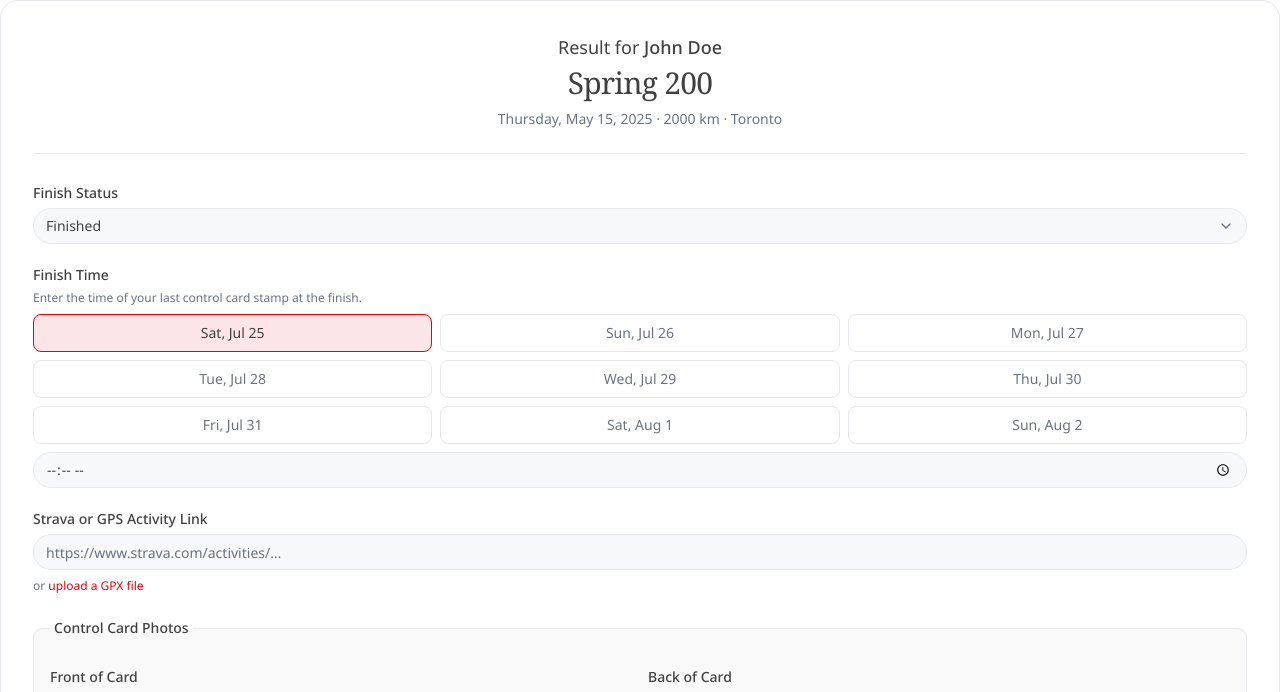
ResultSubmissionForm › pre-ride anchored results › anchors the day picker and elapsed time to the approved pre-ride start, not the event date
Expected: the radio button labelled "Sat, Jul 25" is shown, top-left (33, 314), bottom-right (432, 352)
Expected: the radio button labelled "Sun, Aug 2" is shown, top-left (848, 406), bottom-right (1247, 444)
Click the radio button "Sun, Jul 26": [640, 333] box top-left (440, 314), bottom-right (840, 352)
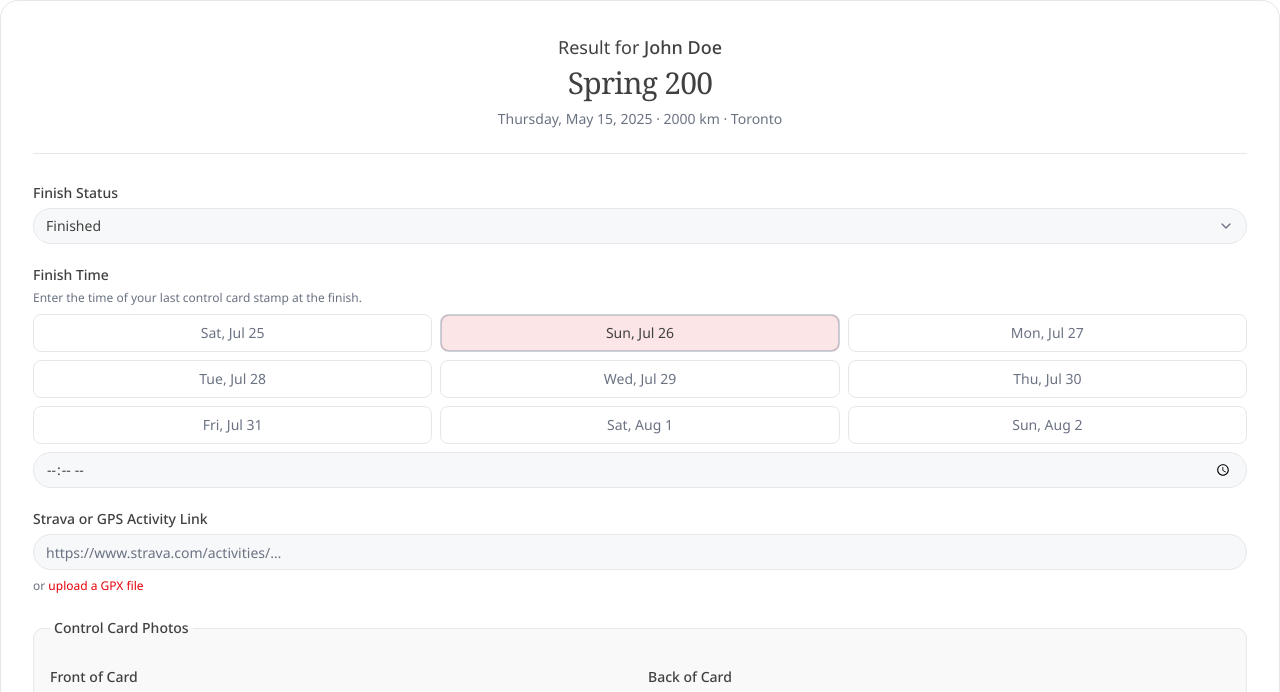
In the time field labelled "Finish Time": [640, 470] box top-left (33, 452), bottom-right (1247, 488), type "05:00"
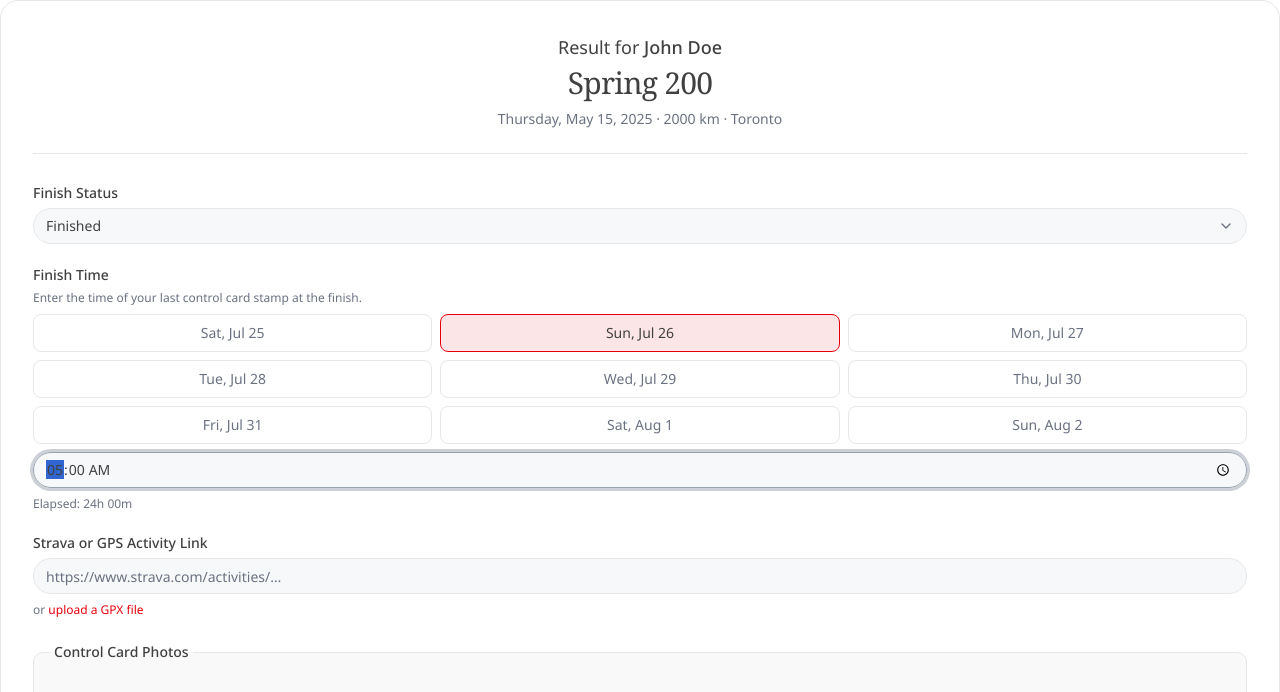
Now the text "Elapsed: 24h 00m" is shown, box top-left (33, 495), bottom-right (132, 512)
